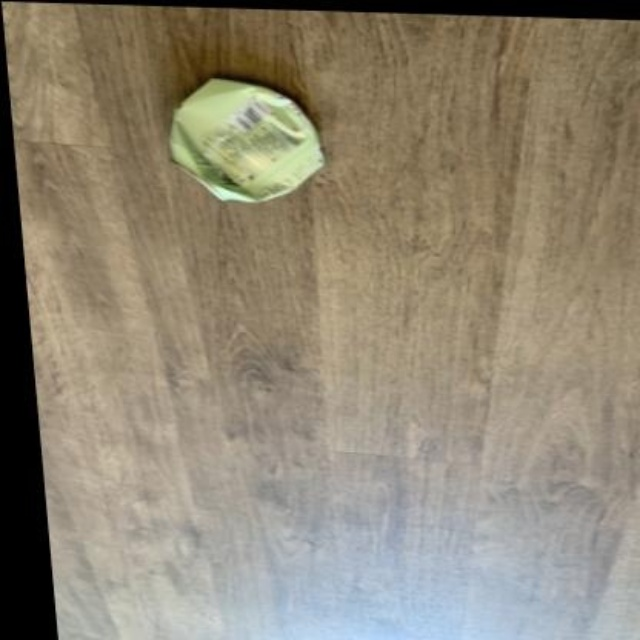trash: (171, 78, 323, 202)
